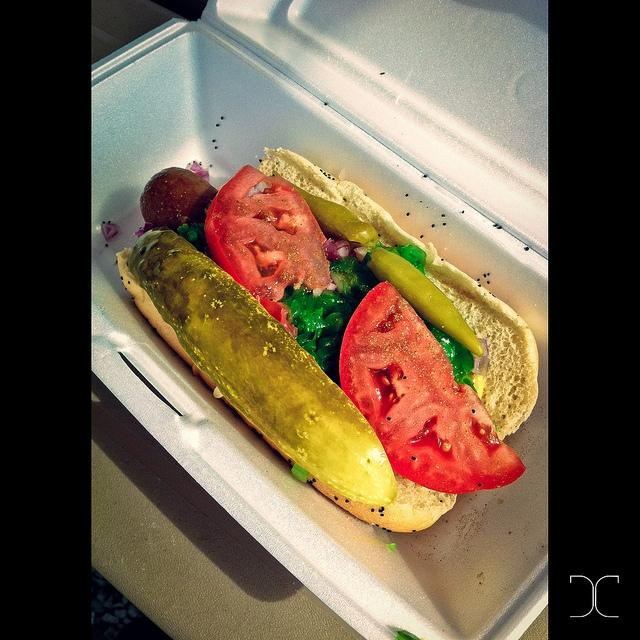tomato: (339, 281, 527, 494), (205, 164, 332, 338)
